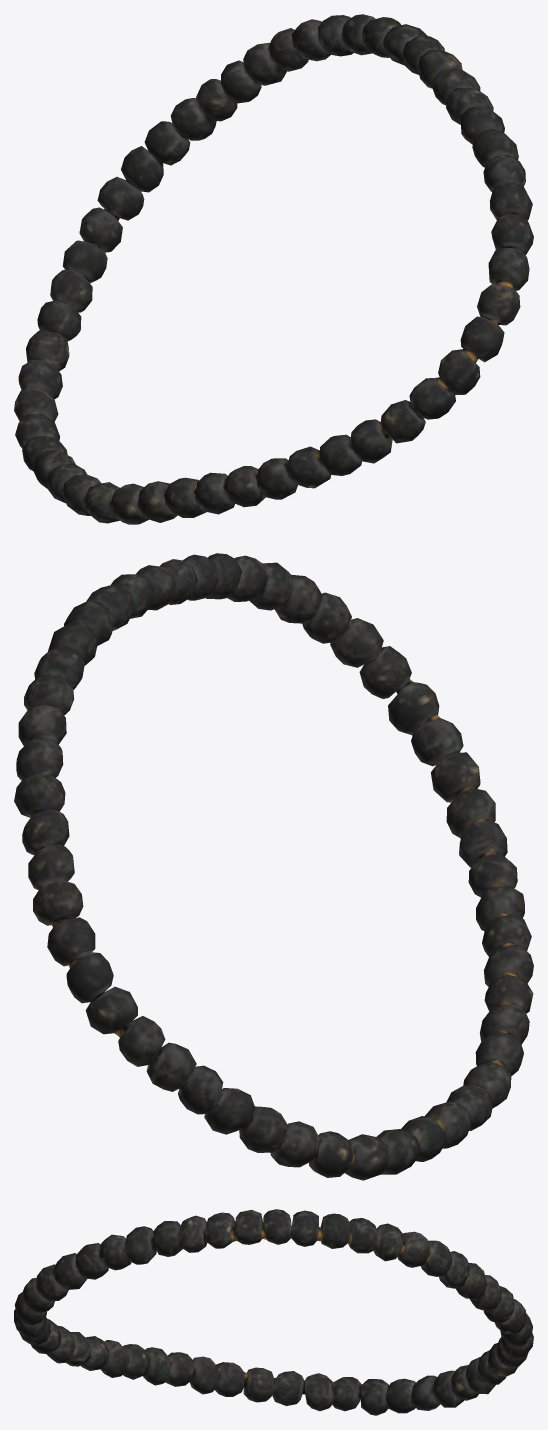
The model's file is SM_BrazaleteCodo.glb.
The picture shows the model from 3 angles, top to bottom: view 1: azimuth 30°, elevation 25°; view 2: azimuth 150°, elevation 25°; view 3: azimuth 270°, elevation 25°; orthographic projection. The views are drawn at different scales.
Parts seen in each view (by area): view 1: Brazalete_Low; view 2: Brazalete_Low; view 3: Brazalete_Low.
Part boxes in pixels (box(x1,y1,x2,y2)): Brazalete_Low: box(14, 14, 533, 524); Brazalete_Low: box(14, 553, 533, 1180); Brazalete_Low: box(14, 1209, 533, 1415).
Bounding box in the file's own units: 0.0815 × 0.0847 × 0.1234.
1 material, 1 textured.
